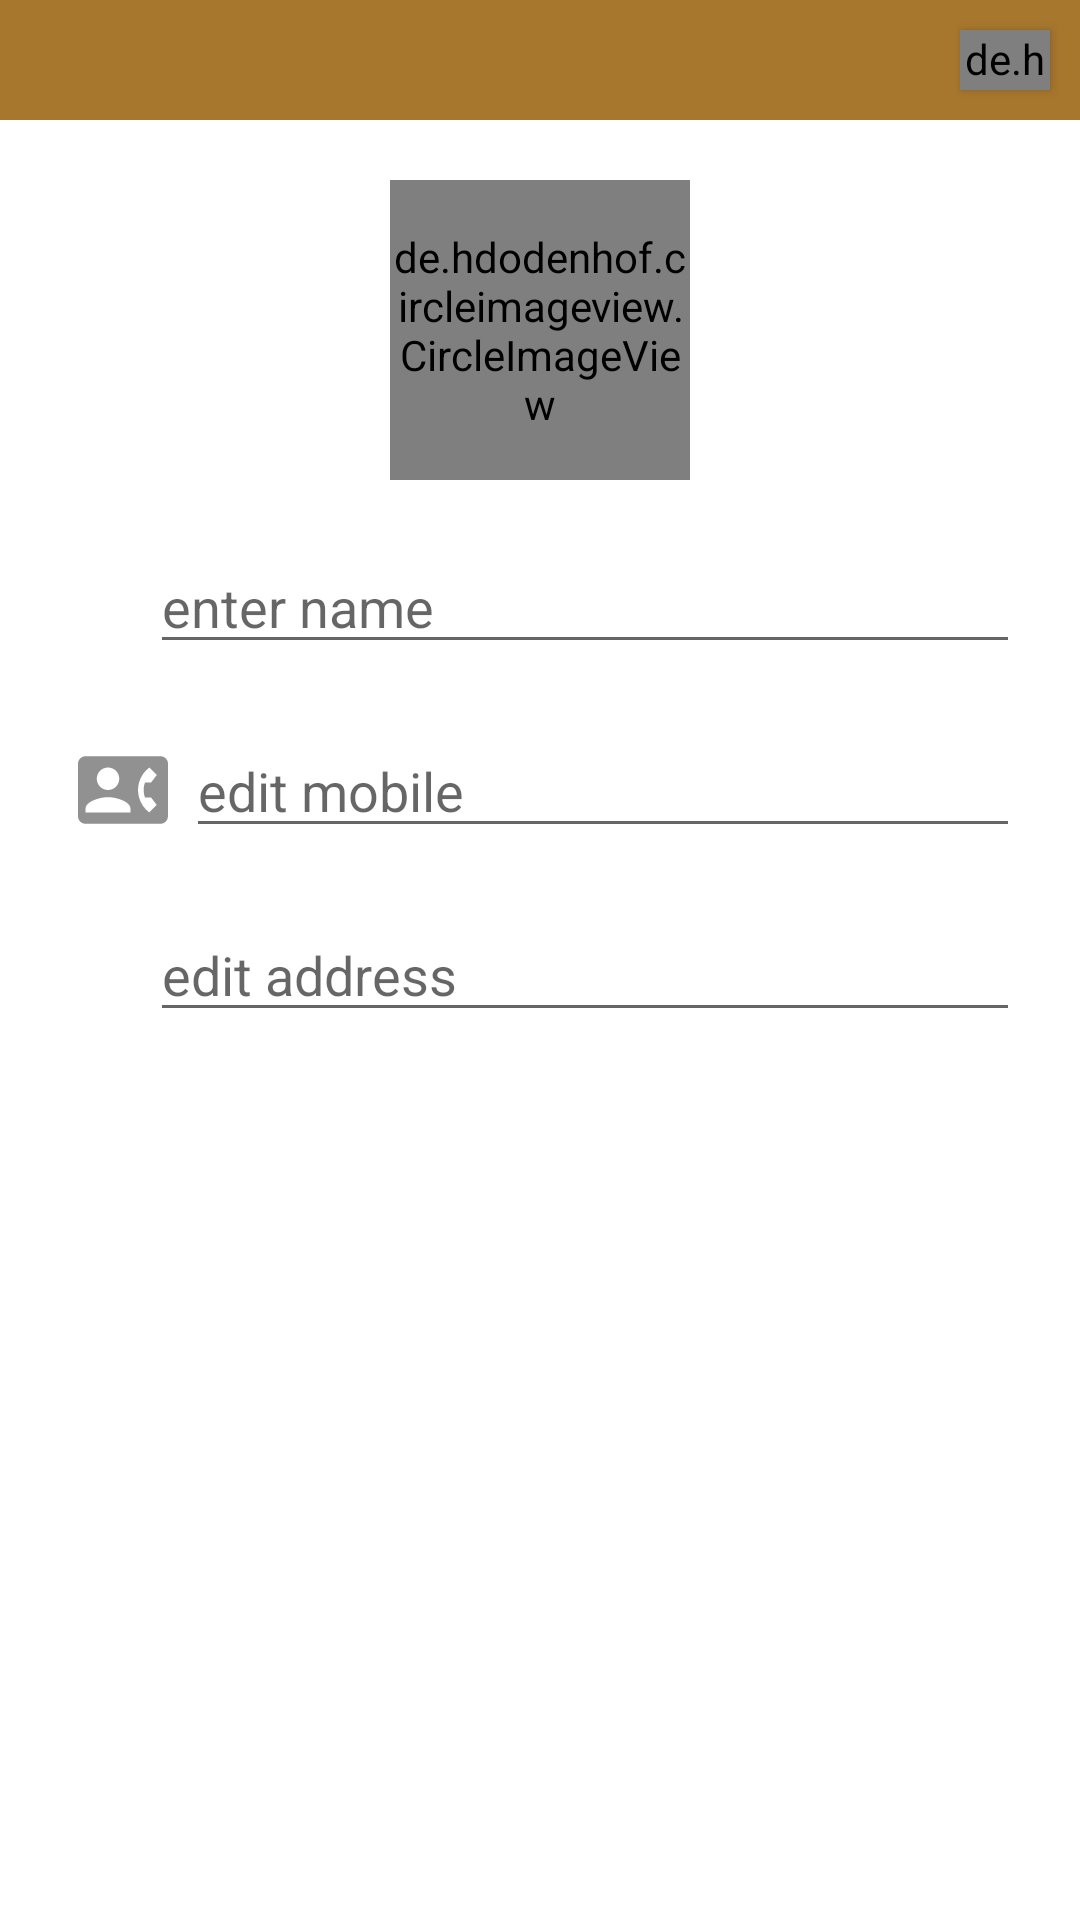

Named icons in this screenshot (1080w x 1920h) and their bounding boxes, (x1, y1, x2, y2):
contact: (78, 756, 168, 824)
